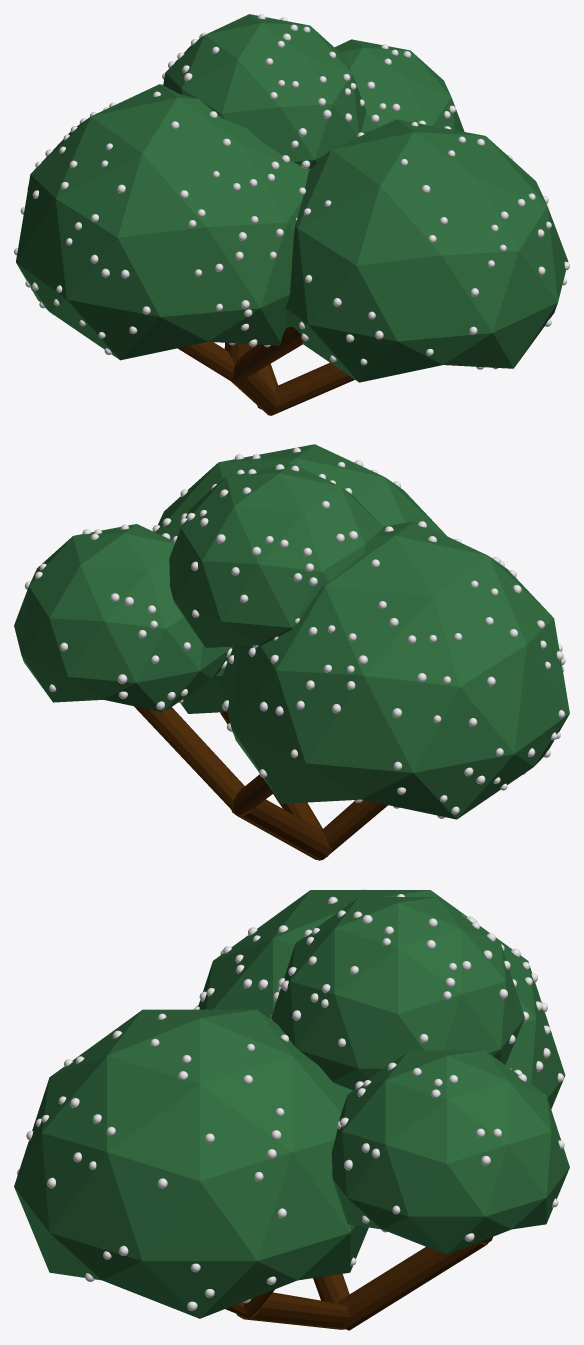
File: berry_bush_variant2.fbx
3 views of the same model, one above another, from view 1: azimuth 30°, elevation 25°; view 2: azimuth 150°, elevation 25°; view 3: azimuth 270°, elevation 25° (orthographic). The views are drawn at different scales.
Parts seen in each view (by area): view 1: Icosphere.006, Icosphere.018, Icosphere.009, Icosphere.008, Vert; view 2: Icosphere.006, Icosphere.008, Icosphere.009, Vert, Icosphere.018; view 3: Icosphere.018, Icosphere.008, Icosphere.009, Icosphere.006, Vert.
Boxes of the visible parts, x1,y1,x2,y2 form: Icosphere.006: (16, 84, 310, 360); Icosphere.018: (285, 119, 568, 382); Icosphere.009: (163, 14, 366, 168); Icosphere.008: (335, 39, 464, 133); Vert: (178, 327, 354, 415); Icosphere.006: (220, 521, 569, 819); Icosphere.008: (14, 524, 232, 712); Icosphere.009: (169, 464, 383, 647); Vert: (134, 706, 387, 860); Icosphere.018: (155, 444, 446, 713); Icosphere.018: (14, 1009, 368, 1318); Icosphere.008: (331, 1050, 569, 1254); Icosphere.009: (271, 897, 524, 1090); Icosphere.006: (198, 890, 565, 1109); Vert: (225, 1237, 492, 1330).
Size of the model in its own units: 76.25 by 61.05 by 70.44.
